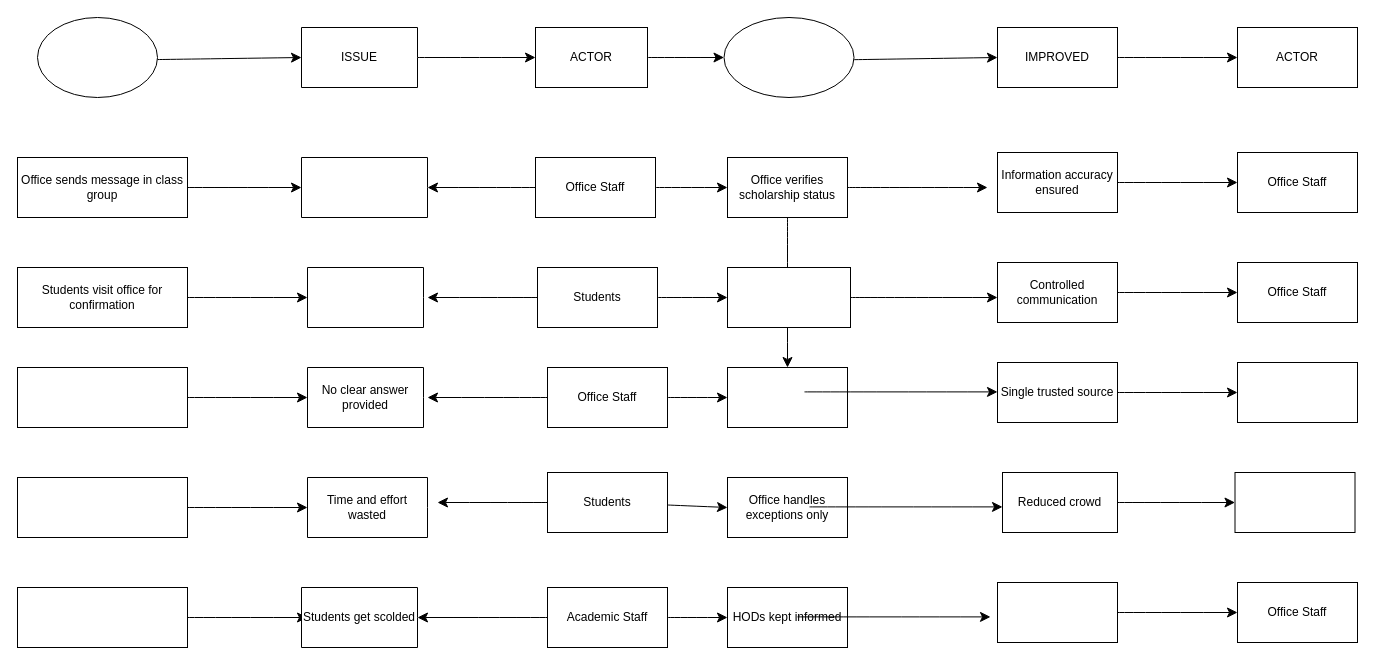
Some shapes in this 1375 by 665 pixel diagram are drawn without their labels. Each missing label, with the centre of its shape:
Admin Team: the point at 1294,502
Advisor informs students: the point at 787,397
AS IS PHASE: the point at 97,57
Class Advisor: the point at 1297,392
HODs not informed: the point at 102,617
Long queues form: the point at 365,297
Message is outdated: the point at 364,187
No miscommunication: the point at 1057,612
Students return multiple times: the point at 102,507
Students wait for response: the point at 102,397
TO BE PHASE: the point at 788,57
Update shared with Class Advisor: the point at 788,297
